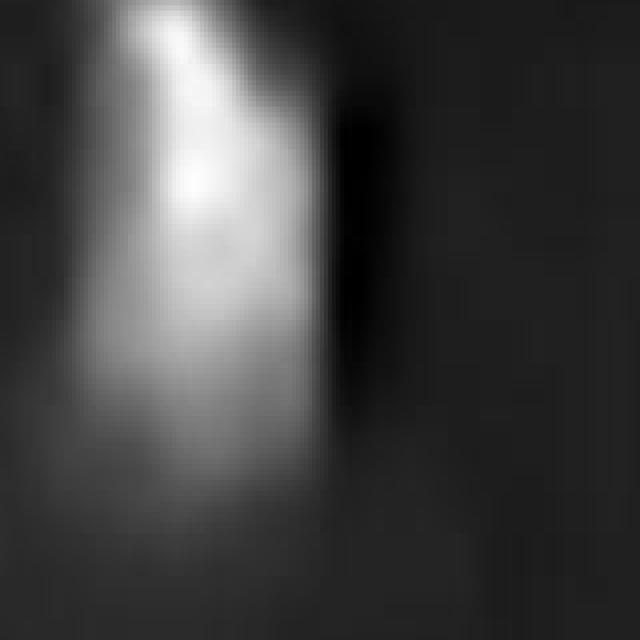person: (53, 1, 337, 540)
